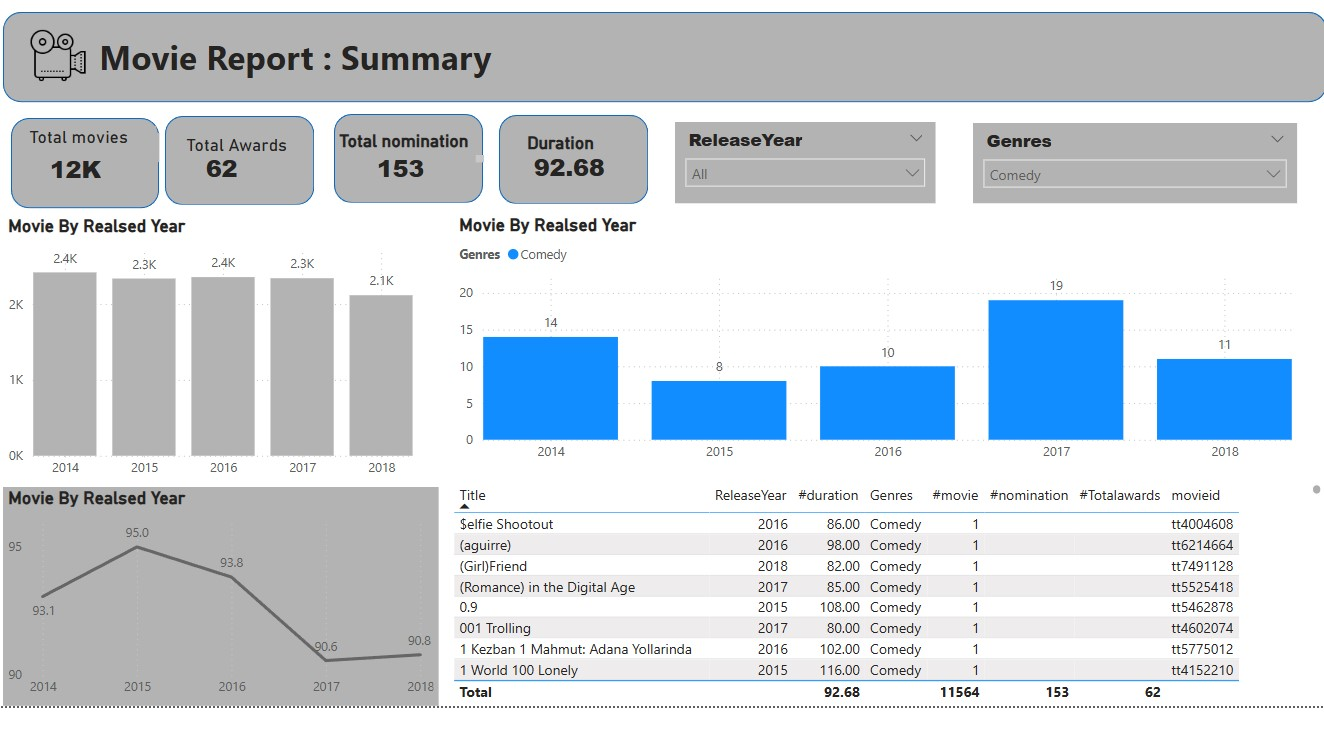

This screenshot's page, from the dashboard's own definition file:
{"tool":"powerbi","page":{"name":"Page 2","canvas":[1280,720],"ordinal":1},"visuals":[{"type":"shape","box":[7.9,54.1,1270.3,86.6],"z":0,"group":"g1"},{"type":"shape","box":[163.2,153.2,143.2,85.5],"z":0},{"type":"shape","box":[15.4,155.4,142.1,86.6],"z":0,"group":"g3"},{"type":"cardVisual","fields":{"Data":["movies.#duration"]},"box":[499.6,161.1,111,68.8],"z":0,"group":"g5"},{"type":"cardVisual","fields":{"Data":["movies.#Totalawards"]},"box":[185.3,162.1,101,69.9],"z":0,"group":"g4"},{"type":"textbox","title":"Total movies","box":[30.8,169.7,126.6,27.8],"z":0,"group":"g2"},{"type":"group","id":"g1","title":"Group 1","box":[7.9,54.1,1271,85.7],"z":1000},{"type":"image","box":[27.4,60.9,68.1,69.1],"z":1000,"group":"g1"},{"type":"group","id":"g2","title":"Group 2","box":[30.8,163,126.6,69.9],"z":1000,"group":"g3"},{"type":"cardVisual","fields":{"Data":["movies.#movie"]},"box":[35.2,163,86.6,69.9],"z":1000,"group":"g2"},{"type":"textbox","title":"Duration","box":[505.2,168.9,126.6,27.8],"z":1000,"group":"g5"},{"type":"textbox","title":"Total Awards","box":[178.6,171,126.6,27.8],"z":1000,"group":"g4"},{"type":"shape","box":[325.3,151.6,143,85.4],"z":2000},{"type":"cardVisual","fields":{"Data":["movies.#nomination"]},"box":[349.7,162.1,92.1,73.3],"z":3000},{"type":"textbox","title":"Total nomination","box":[325.3,166.5,148.8,35.5],"z":4000},{"type":"textbox","box":[94.7,68.8,395.8,60.9],"z":5000},{"type":"group","id":"g3","title":"Group 3","box":[15.4,155.4,142,86.4],"z":6000},{"type":"group","id":"g4","title":"Group 4","box":[178.6,162.1,126.6,69.9],"z":7000},{"type":"shape","box":[484,152.1,143.2,85.5],"z":8000},{"type":"textbox","title":"Total movies","box":[27.8,163.1,126.7,26.9],"z":9000},{"type":"group","id":"g5","title":"Group 4","box":[499.6,161.1,132.1,68.8],"z":10000},{"type":"slicer","fields":{"Values":["movies.ReleaseYear"]},"box":[652.5,159.3,250.4,77.7],"z":11000},{"type":"slicer","fields":{"Values":["genres.Genres"]},"box":[938.4,160.2,310.9,76.8],"z":12000},{"type":"clusteredColumnChart","title":"Movie By Realsed Year ","fields":{"Category":["movies.ReleaseYear"],"Y":["movies.#movie"]},"box":[7.7,248.5,398.2,261],"z":13000},{"type":"clusteredColumnChart","title":"Movie By Realsed Year ","fields":{"Category":["movies.ReleaseYear"],"Y":["movies.#Totalawards"],"Series":["genres.Genres"]},"box":[440.4,247.6,808.9,246.6],"z":14000},{"type":"lineChart","title":"Movie By Realsed Year ","fields":{"Category":["movies.ReleaseYear"],"Y":["movies.#duration"]},"box":[7.7,509.5,418.4,210.1],"z":15000},{"type":"tableEx","title":"Movie By Realsed Year ","fields":{"Values":["movies.Title","movies.ReleaseYear","movies.#duration","genres.Genres","movies.#movie","movies.#nomination","movies.#Totalawards","movies.movieid"]},"box":[434.7,501.8,843.4,217.8],"z":16000}]}

Visuals, with their boxes in screenshot pixels (x1, y1, x2, y2), scaled from the page's 1280x720 canvas onto the 1324x737 screenshot:
shape: 8 55 1322 144
shape: 169 157 317 244
shape: 16 159 163 248
cardVisual - movies.#duration: 517 165 632 235
cardVisual - movies.#Totalawards: 192 166 296 237
"Total movies" textbox: 32 174 163 202
"Group 1" group: 8 55 1323 143
image: 28 62 99 133
"Group 2" group: 32 167 163 238
cardVisual - movies.#movie: 36 167 126 238
"Duration" textbox: 523 173 654 201
"Total Awards" textbox: 185 175 316 203
shape: 336 155 484 243
cardVisual - movies.#nomination: 362 166 457 241
"Total nomination" textbox: 336 170 490 207
textbox: 98 70 507 133
"Group 3" group: 16 159 163 248
"Group 4" group: 185 166 316 237
shape: 501 156 649 243
"Total movies" textbox: 29 167 160 194
"Group 4" group: 517 165 653 235
slicer - movies.ReleaseYear: 675 163 934 243
slicer - genres.Genres: 971 164 1292 243
"Movie By Realsed Year " clusteredColumnChart: 8 254 420 522
"Movie By Realsed Year " clusteredColumnChart: 456 253 1292 506
"Movie By Realsed Year " lineChart: 8 522 441 736
"Movie By Realsed Year " tableEx: 450 514 1322 736
